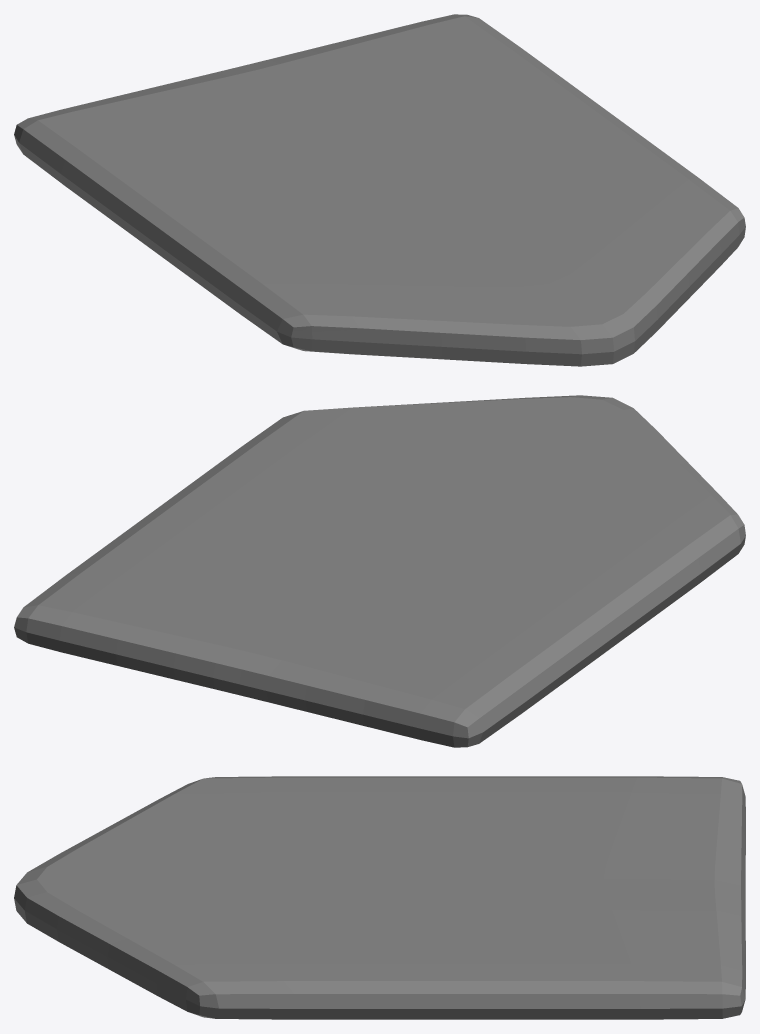
File: shield.fbx
3 views of the same model, one above another, from view 1: azimuth 30°, elevation 25°; view 2: azimuth 150°, elevation 25°; view 3: azimuth 270°, elevation 25° (orthographic). The views are drawn at different scales.
Visible parts, largest first — view 1: Cube; view 2: Cube; view 3: Cube.
Part boxes in pixels (<box>): Cube: <box>14,14,745,366</box>; Cube: <box>14,395,745,747</box>; Cube: <box>14,776,745,1019</box>.
Bounding box in the file's own units: 1138 × 816 × 66.4.
